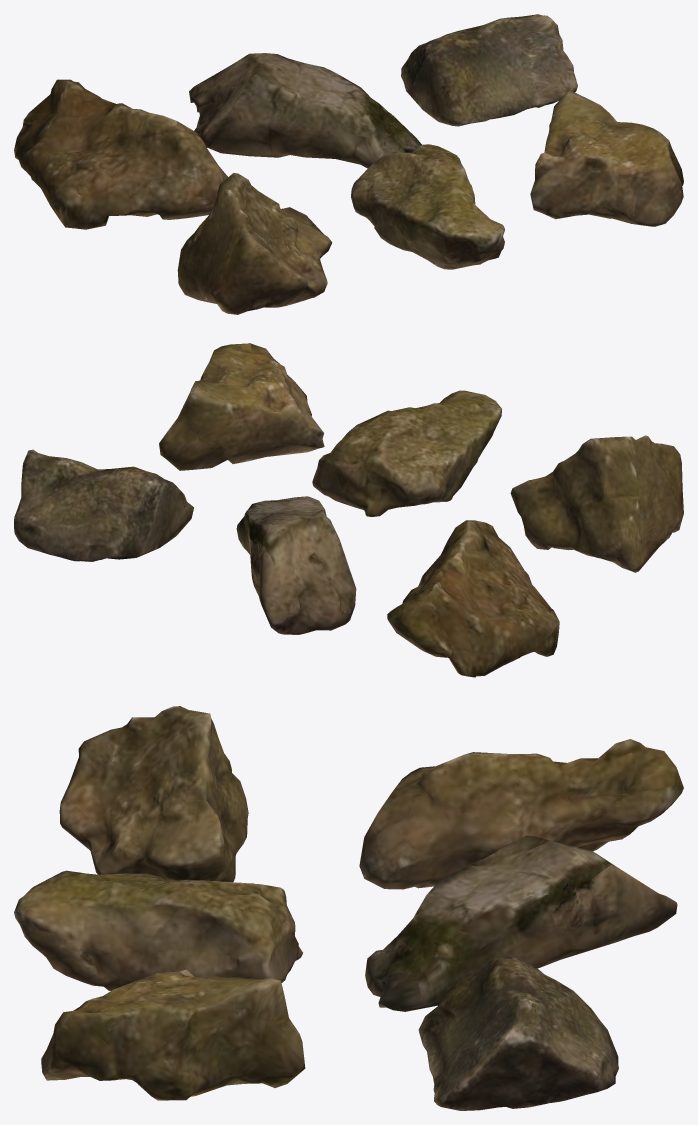
The model's file is rock_moss_set_01.glb.
3 renders of one model, top to bottom at view 1: azimuth 30°, elevation 25°; view 2: azimuth 150°, elevation 25°; view 3: azimuth 270°, elevation 25°, orthographic. The views are drawn at different scales.
Visible parts, largest first — view 1: rock_moss_set_01_rock01, rock_moss_set_01_rock02, rock_moss_set_01_rock06, rock_moss_set_01_rock04, rock_moss_set_01_rock03, rock_moss_set_01_rock05; view 2: rock_moss_set_01_rock04, rock_moss_set_01_rock01, rock_moss_set_01_rock05, rock_moss_set_01_rock03, rock_moss_set_01_rock06, rock_moss_set_01_rock02; view 3: rock_moss_set_01_rock01, rock_moss_set_01_rock02, rock_moss_set_01_rock05, rock_moss_set_01_rock04, rock_moss_set_01_rock06, rock_moss_set_01_rock03.
Boxes of the visible parts, bbox=[...] form: rock_moss_set_01_rock01: bbox=[14, 79, 227, 229]; rock_moss_set_01_rock02: bbox=[189, 53, 421, 168]; rock_moss_set_01_rock06: bbox=[530, 89, 683, 226]; rock_moss_set_01_rock04: bbox=[177, 173, 332, 314]; rock_moss_set_01_rock03: bbox=[401, 14, 577, 126]; rock_moss_set_01_rock05: bbox=[351, 144, 504, 269]; rock_moss_set_01_rock04: bbox=[510, 435, 683, 572]; rock_moss_set_01_rock01: bbox=[387, 520, 559, 677]; rock_moss_set_01_rock05: bbox=[312, 390, 501, 516]; rock_moss_set_01_rock03: bbox=[14, 449, 193, 561]; rock_moss_set_01_rock06: bbox=[159, 343, 324, 470]; rock_moss_set_01_rock02: bbox=[236, 496, 356, 634]; rock_moss_set_01_rock01: bbox=[359, 739, 683, 889]; rock_moss_set_01_rock02: bbox=[365, 835, 677, 1011]; rock_moss_set_01_rock05: bbox=[14, 870, 302, 990]; rock_moss_set_01_rock04: bbox=[59, 706, 248, 882]; rock_moss_set_01_rock06: bbox=[41, 969, 305, 1100]; rock_moss_set_01_rock03: bbox=[418, 955, 618, 1110].
Size of the model in its own units: 8 by 1.76 by 6.94.
1 material, 1 textured.
